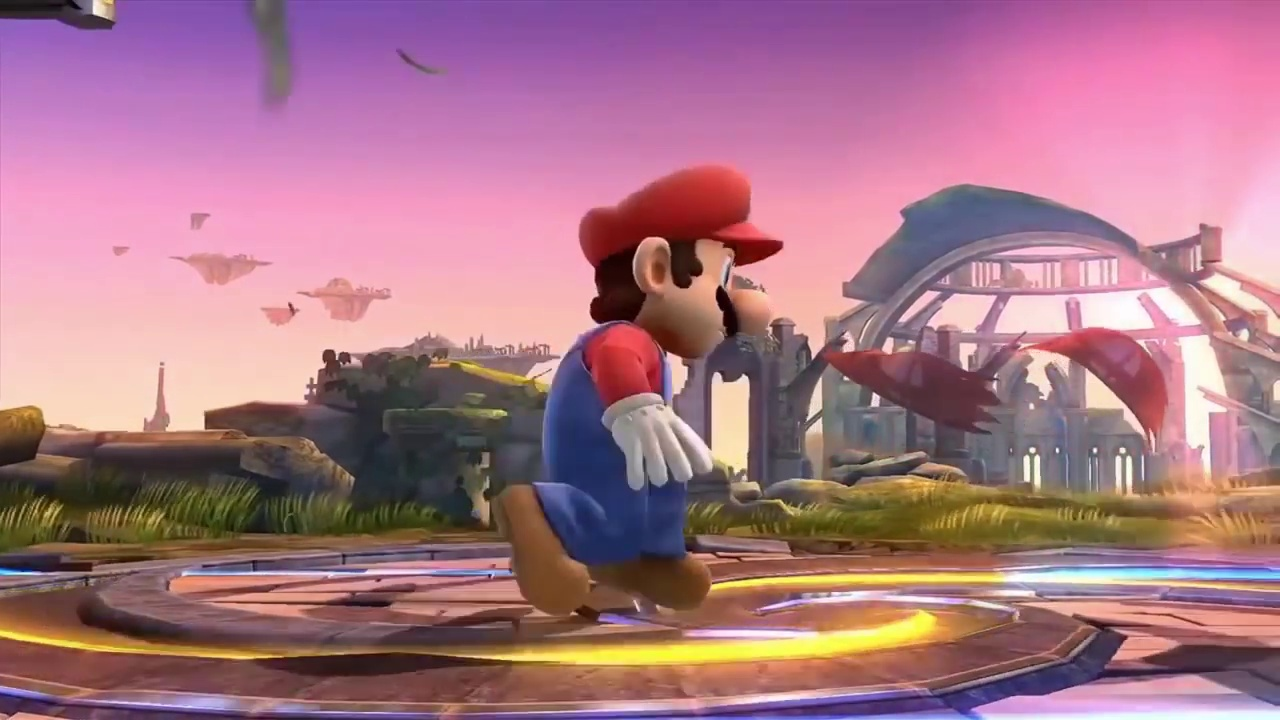Mario: (491, 165, 781, 616)
